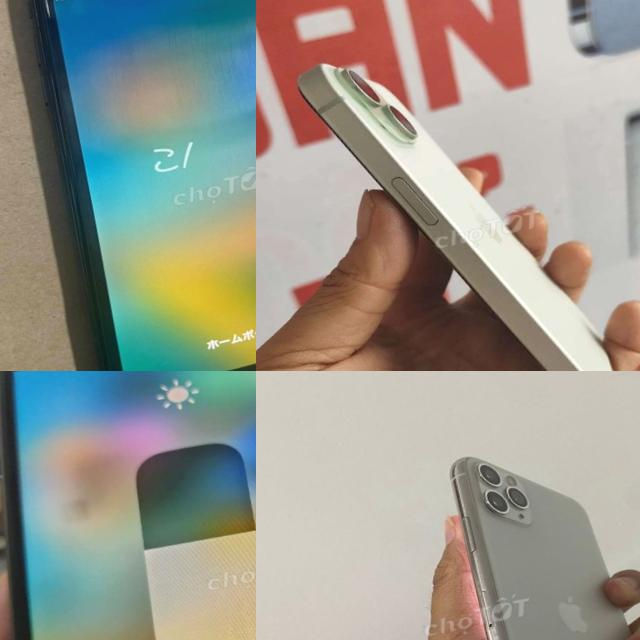scratch: (472, 547, 541, 640)
